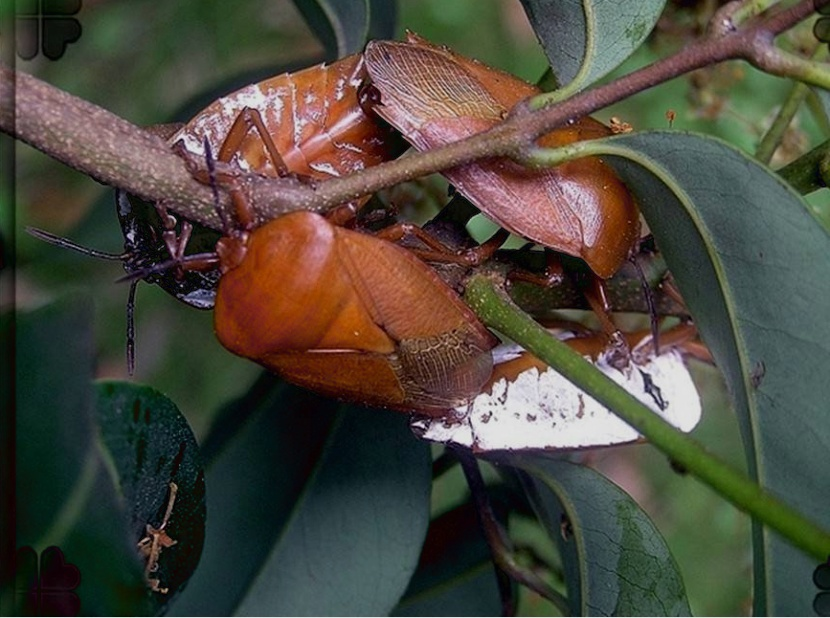Stink_Bug: (374, 29, 646, 264), (104, 50, 400, 260), (402, 279, 731, 458), (165, 225, 503, 371)
